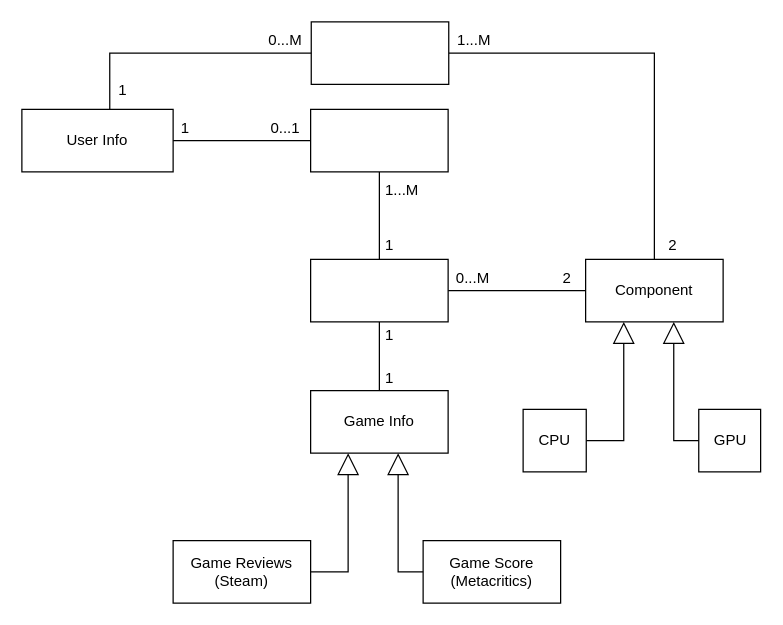
Image size: 783x625. Some labels were removed from this diagram. Here are the shapes that lost their labels. From the top down, the box of each, then its label:
(310, 21, 449, 84): Recommendation
(309, 108, 448, 172): System Evaluation
(309, 258, 448, 322): Game System Requirements
